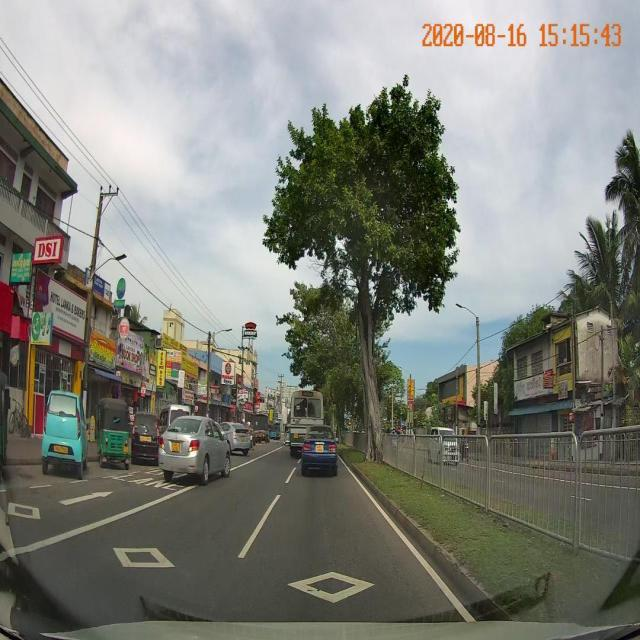BUS LANE: (107, 467, 214, 493)
Liniya 1: (351, 475, 479, 624), (0, 488, 192, 563), (236, 493, 282, 559), (230, 457, 263, 472), (285, 466, 297, 483), (29, 483, 54, 489), (69, 479, 89, 483)
Romb: (287, 571, 373, 603), (114, 545, 175, 566), (9, 500, 41, 517)
Strelka vpered: (55, 490, 115, 507)
